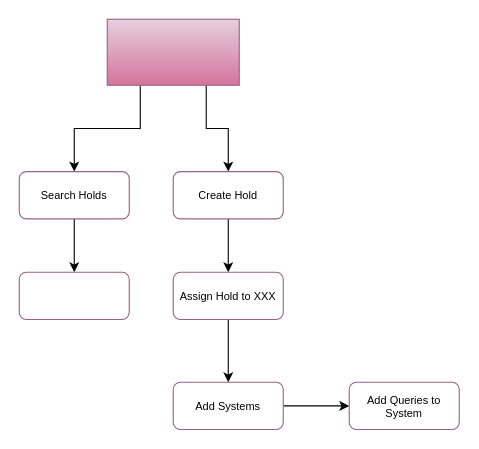
Some shapes in this 479 by 449 pixel diagram are drawn without their labels. The shapes that lost their labels are listed below. From the top down, each one's centre as x and y in pixels, then its label:
pixel 172 51: Holds Page
pixel 73 295: Holds Results
